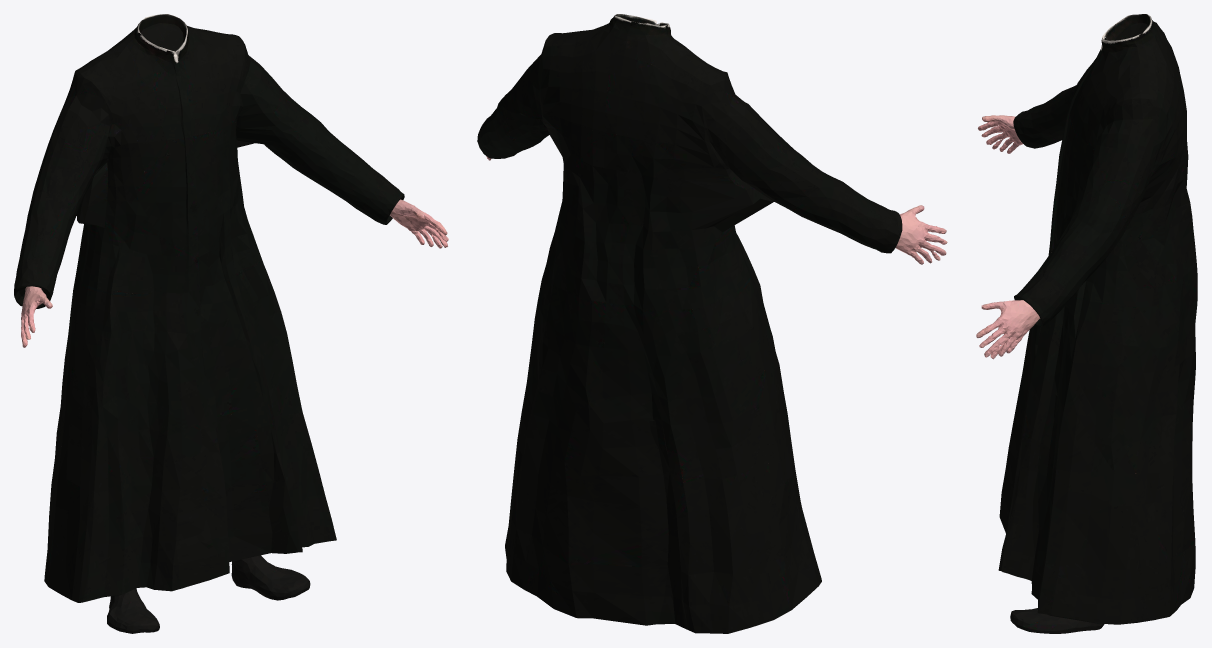
Rendered from ewm_t2priest_outfit.glb.
3 views of the same model, side by side, from view 1: azimuth 30°, elevation 25°; view 2: azimuth 150°, elevation 25°; view 3: azimuth 270°, elevation 25° (orthographic). The views are drawn at different scales.
Visible parts, largest first — view 1: ewm_t2priest_outfit; view 2: ewm_t2priest_outfit; view 3: ewm_t2priest_outfit.
Boxes of the visible parts, x1,y1,x2,y2 form: ewm_t2priest_outfit: (14, 14, 448, 633); ewm_t2priest_outfit: (477, 14, 947, 633); ewm_t2priest_outfit: (976, 14, 1197, 633).
Bounding box in the file's own units: 1.3 × 1.65 × 0.5747.
Materials: 1 (1 with a texture image).
